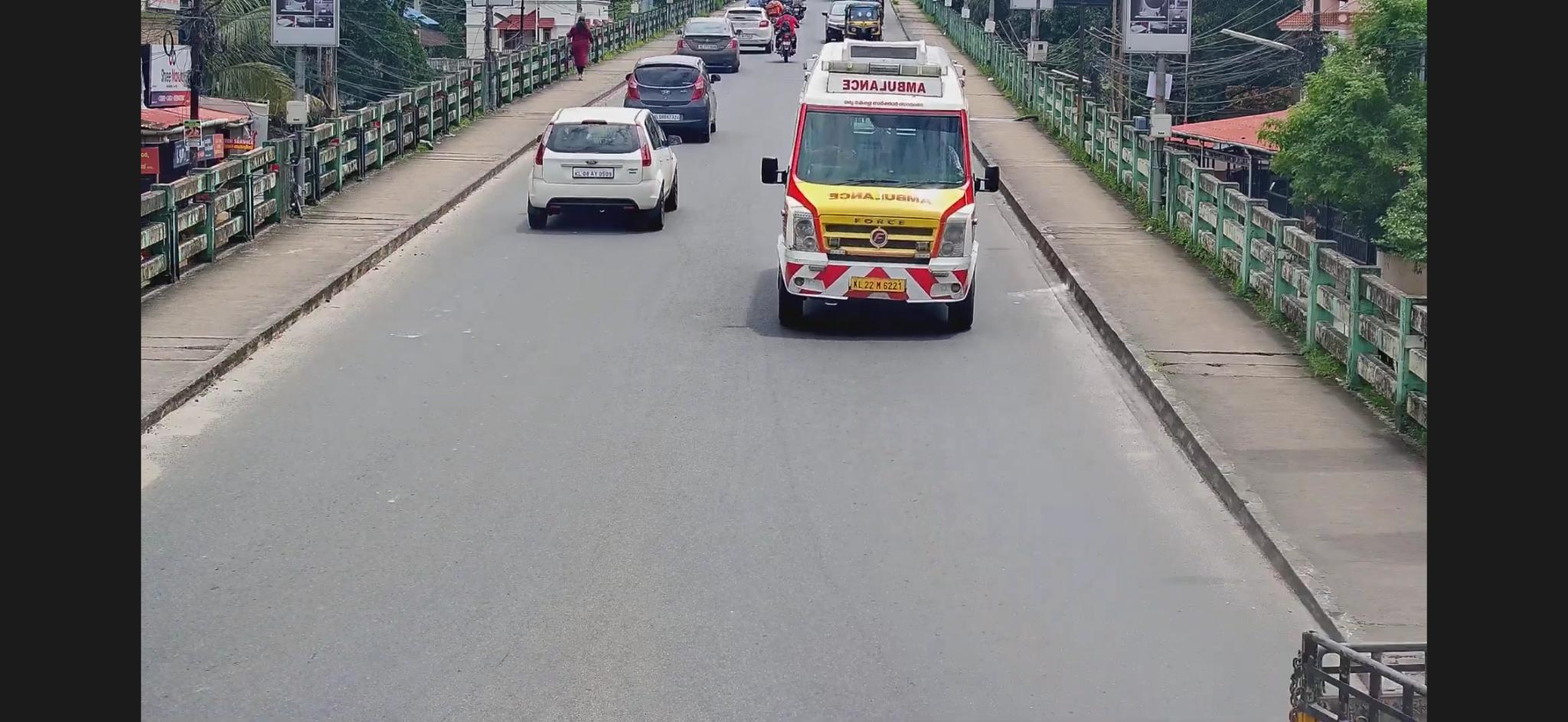ambulance: (756, 31, 991, 335)
